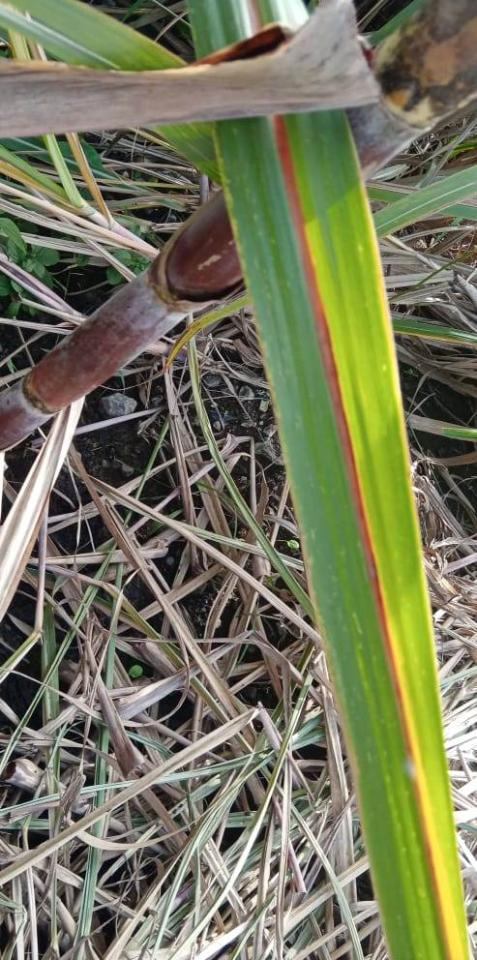RedRot: (269, 114, 442, 897), (241, 0, 264, 33)
